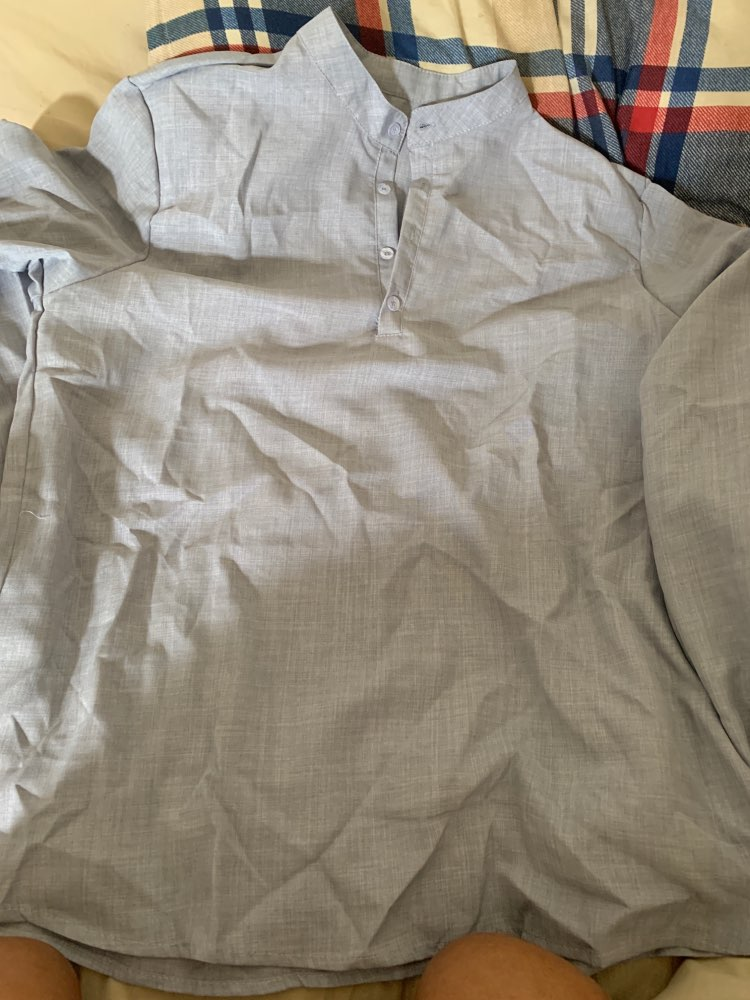shirts: (30, 10, 750, 812)
